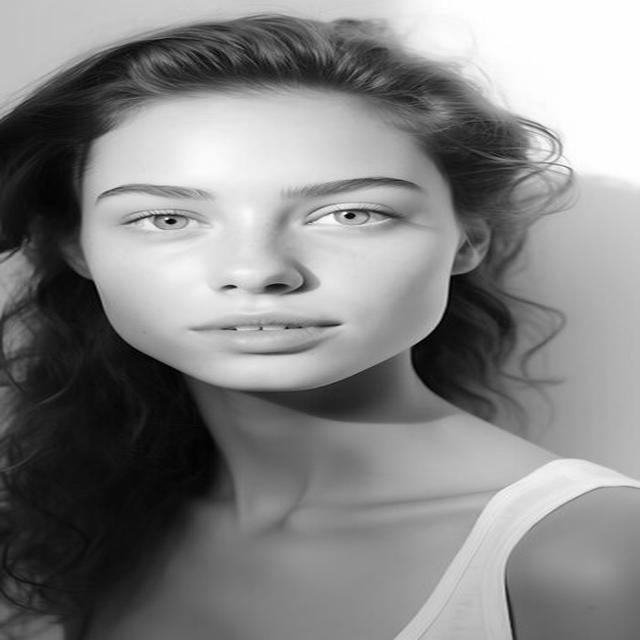Neutral: (82, 95, 451, 391)
